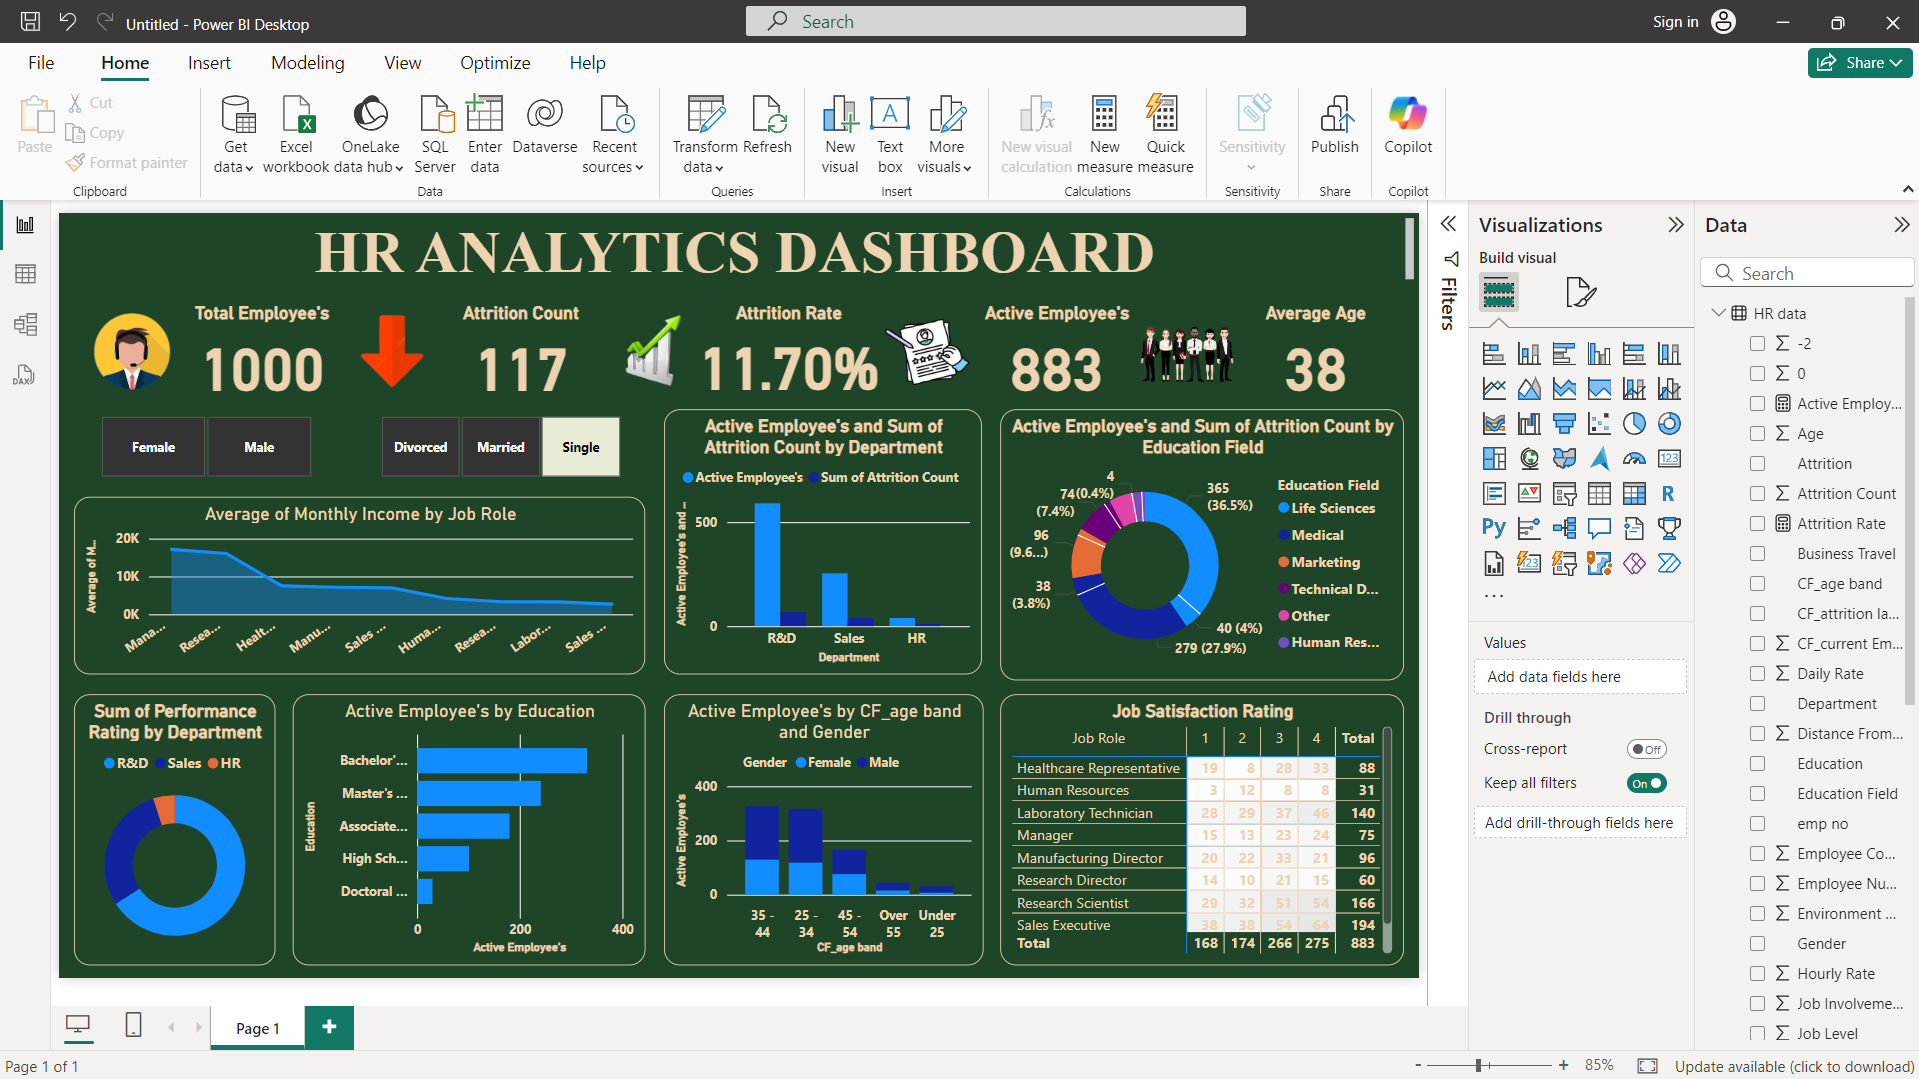

The dashboard page shown, as its layout file describes it:
{"tool":"powerbi","page":{"name":"Page 1","canvas":[1280,720],"ordinal":0},"visuals":[{"type":"card","title":"Total Employee''s","fields":{"Values":["Sum(HR data.Employee Count)"]},"box":[108.2,83.1,166,94.7],"z":0},{"type":"clusteredColumnChart","fields":{"Category":["HR data.Department"],"Y":["HR data.Active Employee's","Sum(HR data.Attrition Count)"]},"box":[569.5,185.2,299.1,249.7],"z":0},{"type":"card","title":"Average Age","fields":{"Values":["Avg(HR data.Age)"]},"box":[1100.5,83.1,166,94.7],"z":1000},{"type":"donutChart","fields":{"Y":["HR data.Active Employee's","Sum(HR data.Attrition Count)"],"Category":["HR data.Education Field"]},"box":[886.5,185.2,380.1,255.2],"z":1000},{"type":"card","title":"Active Employee''s","fields":{"Values":["HR data.Active Employee's"]},"box":[856.8,83.1,166,94.7],"z":2000},{"type":"columnChart","fields":{"Y":["HR data.Active Employee's"],"Category":["HR data.CF_age band"],"Series":["HR data.Gender"]},"box":[569.5,452.8,300.5,255.2],"z":2000},{"type":"card","title":"Attrition Rate","fields":{"Values":["HR data.Attrition Rate"]},"box":[595.7,83.4,183.5,94.1],"z":3000},{"type":"pivotTable","title":"Job Satisfaction Rating","fields":{"Rows":["HR data.Job Role"],"Columns":["HR data.Job Satisfaction"],"Values":["HR data.Active Employee's"]},"box":[886.5,452.8,380.1,255.2],"z":3000},{"type":"card","title":"Attrition Count","fields":{"Values":["Sum(HR data.Attrition Count)"]},"box":[351.9,83.1,166,94.7],"z":4000},{"type":"donutChart","fields":{"Y":["Sum(HR data.Performance Rating)"],"Category":["HR data.Department"]},"box":[13.7,452.8,189.4,255.2],"z":4000},{"type":"clusteredBarChart","fields":{"Category":["HR data.Education"],"Y":["HR data.Active Employee's"]},"box":[219.6,452.8,332.1,255.2],"z":5000},{"type":"areaChart","fields":{"Category":["HR data.Job Role"],"Y":["Avg(HR data.Monthly Income)"]},"box":[13.7,267.6,537.9,167.4],"z":6000},{"type":"slicer","fields":{"Values":["HR data.Gender"]},"box":[13.7,185.2,247,70],"z":7000},{"type":"slicer","fields":{"Values":["HR data.Marital Status"]},"box":[277.2,185.2,274.4,70],"z":8000},{"type":"image","box":[768,79.9,100,101.2],"z":10000},{"type":"image","box":[263,80.4,100.2,100.2],"z":11000},{"type":"image","box":[1011.6,80.4,100.2,100.2],"z":12000},{"type":"image","box":[506.7,80.4,100.2,100.2],"z":13000},{"type":"image","box":[19.2,80.4,100.2,100.2],"z":14000},{"type":"textbox","box":[0,0,1280.3,78.2],"z":15000}]}

Visuals, with their boxes on the page's 1280x720 design canvas (x1, y1, x2, y2). These are canvas units, not pixel positions in the 1919x1079 screenshot, which may show the page scaled, cropped or inside an application window:
"Total Employee''s" card: box=[108, 83, 274, 178]
clusteredColumnChart - HR data.Department x HR data.Active Employee's: box=[570, 185, 869, 435]
"Average Age" card: box=[1100, 83, 1266, 178]
donutChart - HR data.Active Employee's x Sum(HR data.Attrition Count): box=[886, 185, 1267, 440]
"Active Employee''s" card: box=[857, 83, 1023, 178]
columnChart - HR data.Active Employee's x HR data.CF_age band: box=[570, 453, 870, 708]
"Attrition Rate" card: box=[596, 83, 779, 178]
"Job Satisfaction Rating" pivotTable: box=[886, 453, 1267, 708]
"Attrition Count" card: box=[352, 83, 518, 178]
donutChart - Sum(HR data.Performance Rating) x HR data.Department: box=[14, 453, 203, 708]
clusteredBarChart - HR data.Education x HR data.Active Employee's: box=[220, 453, 552, 708]
areaChart - HR data.Job Role x Avg(HR data.Monthly Income): box=[14, 268, 552, 435]
slicer - HR data.Gender: box=[14, 185, 261, 255]
slicer - HR data.Marital Status: box=[277, 185, 552, 255]
image: box=[768, 80, 868, 181]
image: box=[263, 80, 363, 181]
image: box=[1012, 80, 1112, 181]
image: box=[507, 80, 607, 181]
image: box=[19, 80, 119, 181]
textbox: box=[0, 0, 1280, 78]
